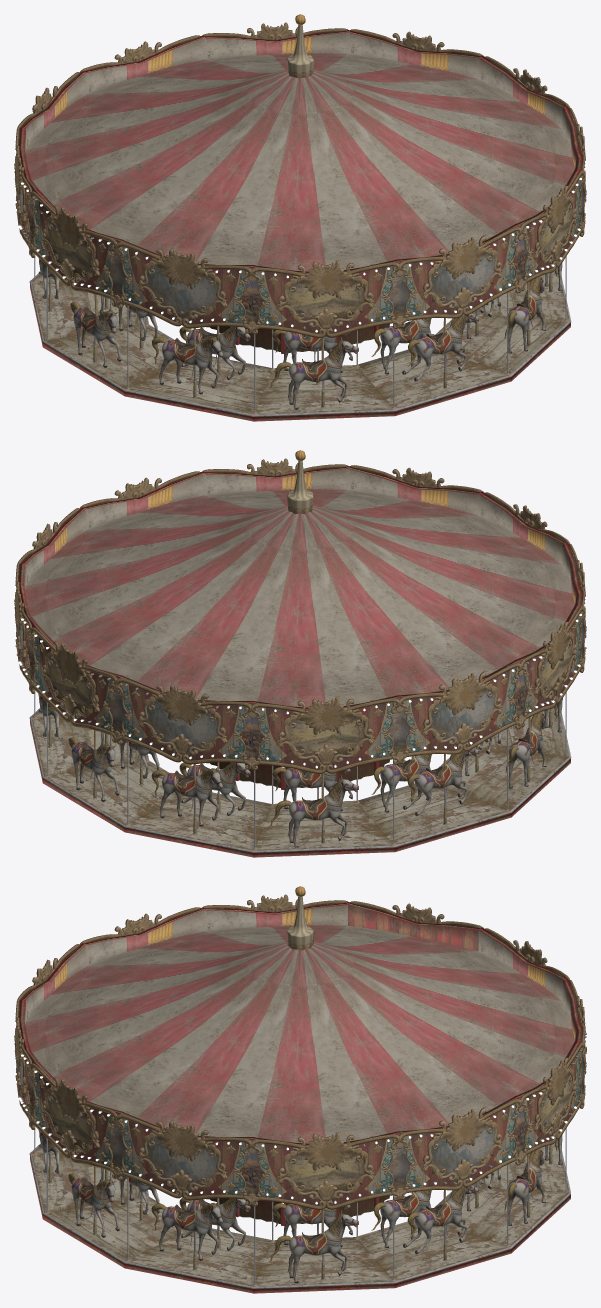
File: SK_Carousel_Animated_AsStaticMesh.fbx
The picture shows the model from 3 angles, top to bottom: view 1: azimuth 30°, elevation 25°; view 2: azimuth 150°, elevation 25°; view 3: azimuth 270°, elevation 25°; orthographic projection.
Visible parts, largest first — view 1: SK_Carousel_Animated_AsStaticMesh; view 2: SK_Carousel_Animated_AsStaticMesh; view 3: SK_Carousel_Animated_AsStaticMesh.
Part boxes in pixels (x1,y1,x2,y2): SK_Carousel_Animated_AsStaticMesh: [14, 14, 586, 421]; SK_Carousel_Animated_AsStaticMesh: [14, 450, 586, 857]; SK_Carousel_Animated_AsStaticMesh: [14, 886, 586, 1293].
Size of the model in its own units: 1415 by 1414 by 809.
